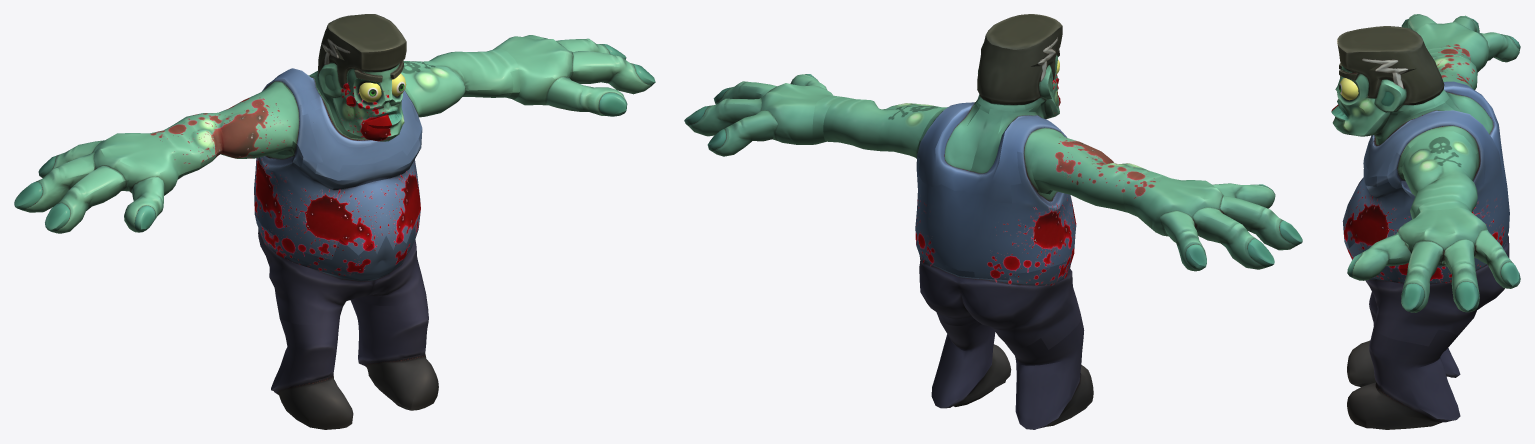
The model's file is zombie 3_B t pose (3).fbx.
3 renders of one model, left to right at view 1: azimuth 30°, elevation 25°; view 2: azimuth 150°, elevation 25°; view 3: azimuth 270°, elevation 25°, orthographic. The views are drawn at different scales.
Visible parts, largest first — view 1: _gltfNode_0.006, _gltfNode_0.002, _gltfNode_0.007, _gltfNode_0.005, _gltfNode_0.001, _gltfNode_0.009, _gltfNode_0.004, _gltfNode_0.003, _gltfNode_0.008, _gltfNode_0; view 2: _gltfNode_0.006, _gltfNode_0.002, _gltfNode_0.005, _gltfNode_0, _gltfNode_0.001, _gltfNode_0.007, _gltfNode_0.009, _gltfNode_0.003, _gltfNode_0.008, _gltfNode_0.004; view 3: _gltfNode_0.001, _gltfNode_0.007, _gltfNode_0.004, _gltfNode_0, _gltfNode_0.005, _gltfNode_0.006, _gltfNode_0.008, _gltfNode_0.002, _gltfNode_0.003, _gltfNode_0.009.
Part boxes in pixels (left/top/right/bottom): _gltfNode_0.006: left=254, top=138, right=421, bottom=259; _gltfNode_0.002: left=14, top=124, right=210, bottom=233; _gltfNode_0.007: left=311, top=14, right=406, bottom=147; _gltfNode_0.005: left=255, top=215, right=425, bottom=324; _gltfNode_0.001: left=486, top=35, right=655, bottom=116; _gltfNode_0.009: left=172, top=79, right=322, bottom=173; _gltfNode_0.004: left=350, top=294, right=438, bottom=410; _gltfNode_0.003: left=271, top=316, right=353, bottom=429; _gltfNode_0.008: left=401, top=51, right=513, bottom=146; _gltfNode_0: left=272, top=68, right=422, bottom=172; _gltfNode_0.006: left=915, top=170, right=1076, bottom=280; _gltfNode_0.002: left=1123, top=163, right=1302, bottom=271; _gltfNode_0.005: left=916, top=245, right=1081, bottom=349; _gltfNode_0: left=917, top=94, right=1058, bottom=203; _gltfNode_0.001: left=684, top=74, right=844, bottom=156; _gltfNode_0.007: left=977, top=14, right=1062, bottom=121; _gltfNode_0.009: left=1010, top=126, right=1147, bottom=212; _gltfNode_0.003: left=1005, top=316, right=1093, bottom=429; _gltfNode_0.008: left=823, top=97, right=947, bottom=173; _gltfNode_0.004: left=931, top=321, right=1011, bottom=408; _gltfNode_0.001: left=1347, top=199, right=1520, bottom=312; _gltfNode_0.007: left=1331, top=26, right=1449, bottom=144; _gltfNode_0.004: left=1347, top=328, right=1460, bottom=429; _gltfNode_0: left=1365, top=81, right=1500, bottom=183; _gltfNode_0.005: left=1344, top=234, right=1509, bottom=346; _gltfNode_0.006: left=1342, top=144, right=1509, bottom=268; _gltfNode_0.008: left=1376, top=131, right=1485, bottom=219; _gltfNode_0.002: left=1401, top=14, right=1520, bottom=72; _gltfNode_0.003: left=1347, top=292, right=1460, bottom=386; _gltfNode_0.009: left=1431, top=53, right=1477, bottom=89.
Size of the model in its own units: 1705 by 1013 by 479.
Materials: 1 (1 with a texture image).
